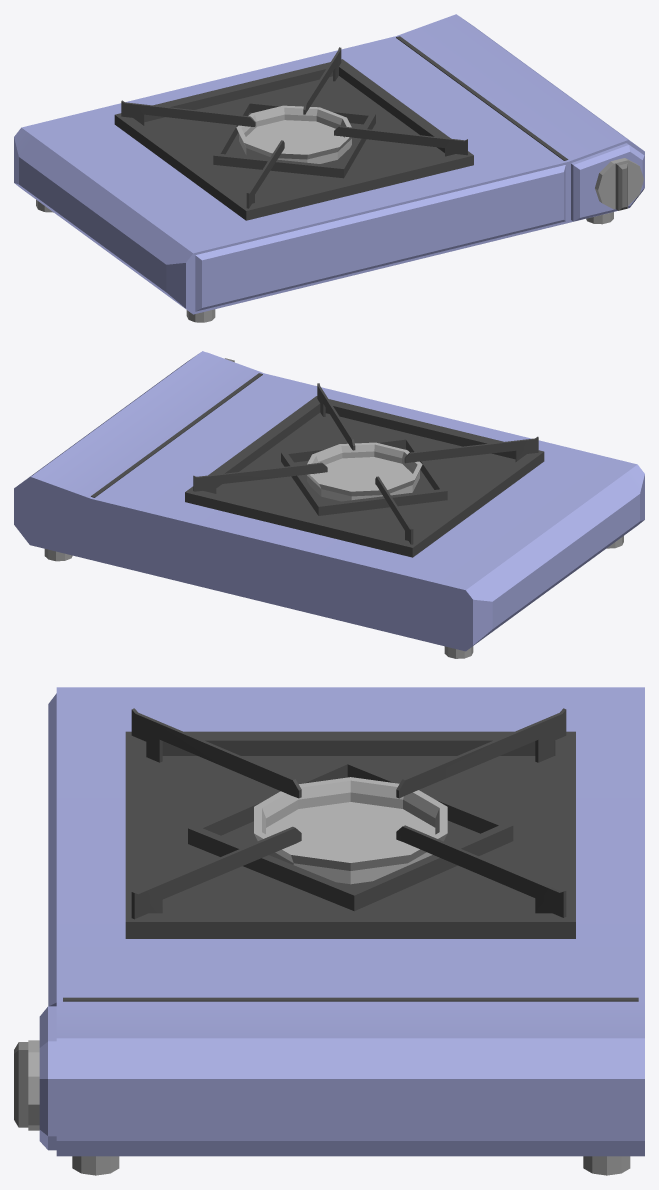
File: Portable Stove.fbx
3 views of the same model, one above another, from view 1: azimuth 30°, elevation 25°; view 2: azimuth 150°, elevation 25°; view 3: azimuth 270°, elevation 25° (orthographic). The views are drawn at different scales.
Visible parts, largest first — view 1: Main, Stove1, Stove3, Stove2, Stove_Support7, Stove_Support6, Dial1, Border, Dial2, Stove_Support4, Stove_Support5; view 2: Main, Stove1, Stove3, Stove2, Stove_Support4, Stove_Support5, Border, Stove_Support6, Stove_Support7; view 3: Main, Stove1, Stove3, Stove2, Stove_Support5, Stove_Support7, Stove_Support6, Stove_Support4, Border, Dial2, Dial1, Support1 (+1 smaller).
Part boxes in pixels (x1,y1,x2,y2): Main: (14, 14, 644, 314); Stove1: (114, 59, 473, 220); Stove3: (236, 105, 351, 163); Stove2: (213, 100, 375, 178); Stove_Support7: (121, 100, 255, 126); Stove_Support6: (334, 126, 467, 156); Dial1: (595, 158, 643, 209); Border: (396, 36, 568, 160); Dial2: (615, 161, 627, 210); Stove_Support4: (303, 47, 341, 114); Stove_Support5: (246, 140, 284, 208); Main: (14, 351, 644, 651); Stove1: (185, 396, 544, 557); Stove3: (307, 442, 422, 501); Stove2: (281, 436, 447, 515); Stove_Support4: (193, 462, 327, 493); Stove_Support5: (404, 436, 538, 463); Border: (91, 373, 262, 497); Stove_Support6: (317, 383, 355, 450); Stove_Support7: (375, 476, 413, 544); Main: (39, 687, 644, 1156); Stove1: (125, 731, 575, 938); Stove3: (254, 777, 447, 884); Stove2: (188, 758, 513, 911); Stove_Support5: (131, 708, 301, 798); Stove_Support7: (396, 708, 566, 798); Stove_Support6: (131, 826, 301, 919); Stove_Support4: (396, 825, 566, 917); Border: (63, 997, 638, 1001); Dial2: (14, 1042, 28, 1127); Dial1: (28, 1040, 39, 1130); Support1: (72, 1156, 119, 1175).
Bounding box in the file's own units: 3.07 × 0.6306 × 2.1.
